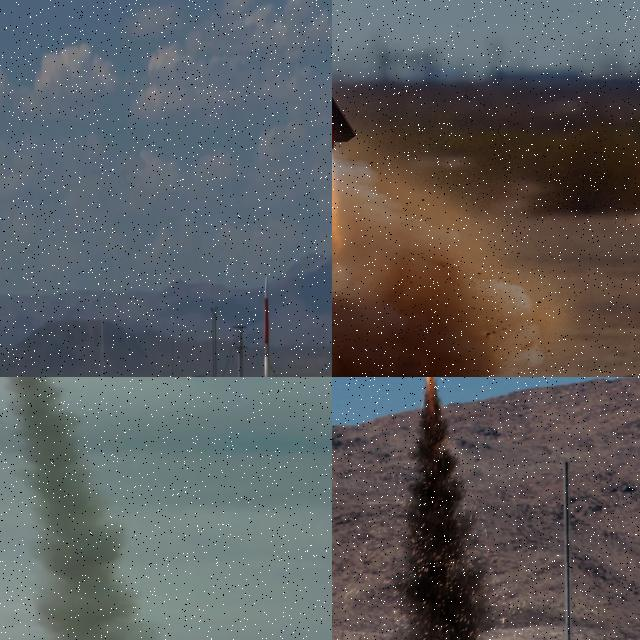Rocket: (332, 0, 357, 150), (262, 277, 272, 377)
